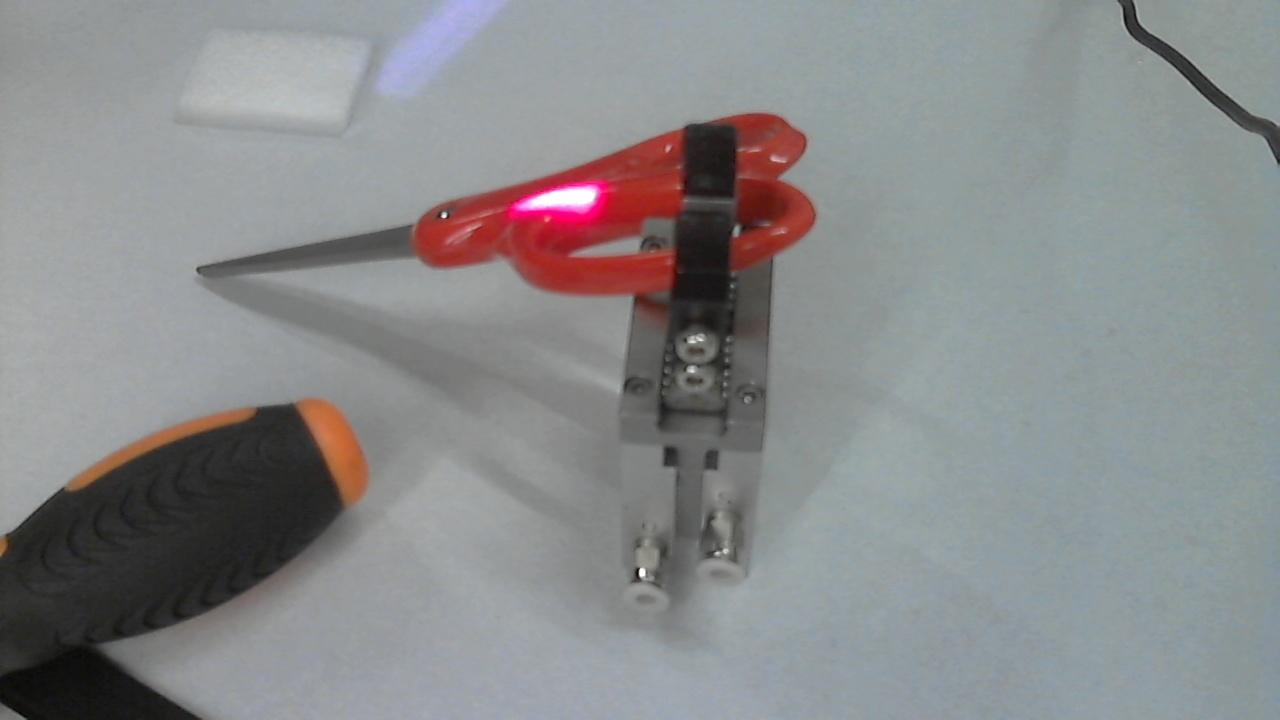Object screw packaging box - Material cardboard - Pdfname VgpKnmoKJfrS: (495, 148, 622, 238)
